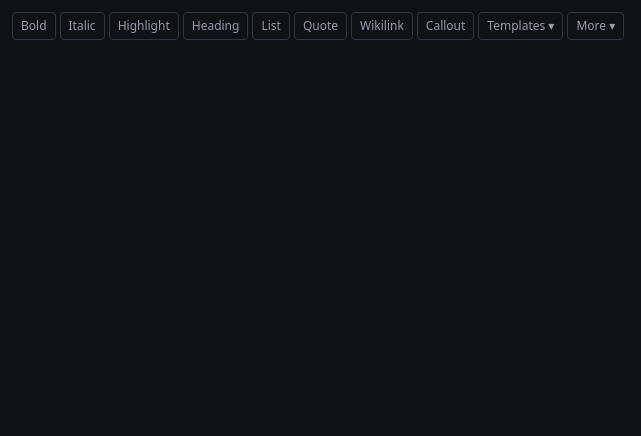
entry template inserts › opening Templates closes the More menu
The width and height of the screenshot is (641, 436).
Click the button "More ▾" at (596, 26), box [567,12,624,40]
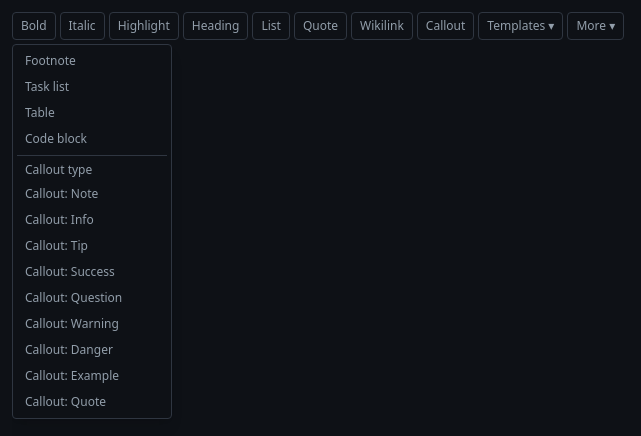
Expected: the button "Footnote" is shown, [17,49,167,73]
Click the button "Templates ▾" at (521, 26), box [478,12,563,40]
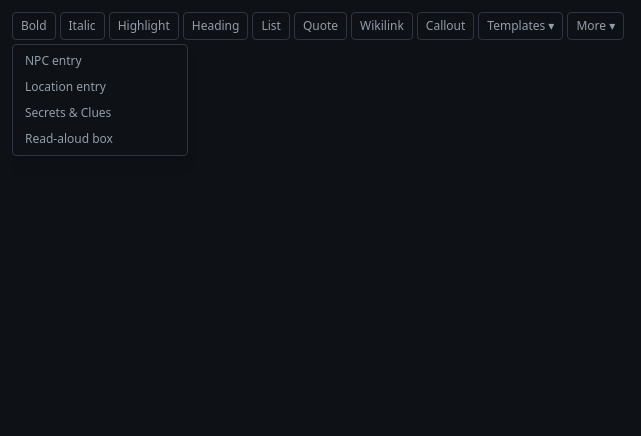
Expected: the button "Footnote" is gone
Expected: the button "NPC entry" is shown, [17,49,183,73]
